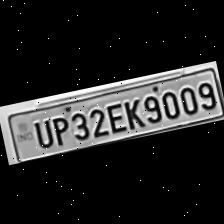0: (156, 85, 180, 119), (175, 81, 199, 115)
2: (85, 103, 108, 138)
3: (66, 107, 90, 142)
9: (193, 76, 218, 112), (138, 90, 162, 124)
E: (102, 98, 126, 134)
K: (120, 94, 144, 130)
P: (46, 111, 70, 146)
U: (28, 114, 54, 148)
